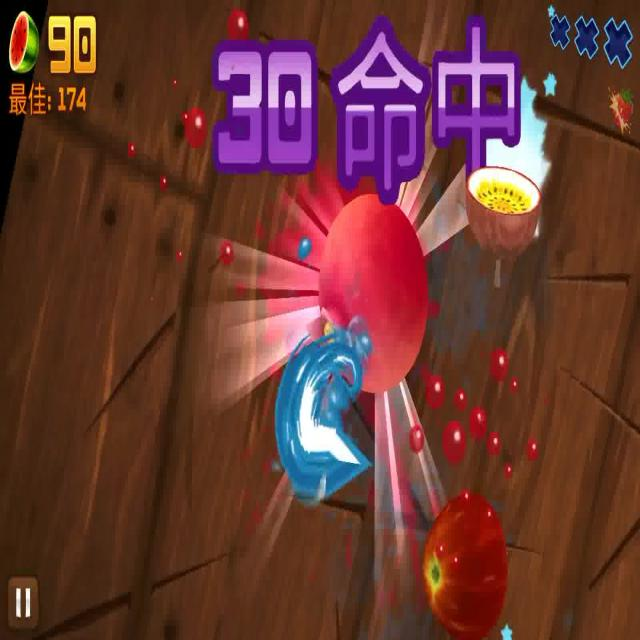fruit: (301, 180, 433, 395), (412, 458, 512, 640), (452, 142, 553, 296)
